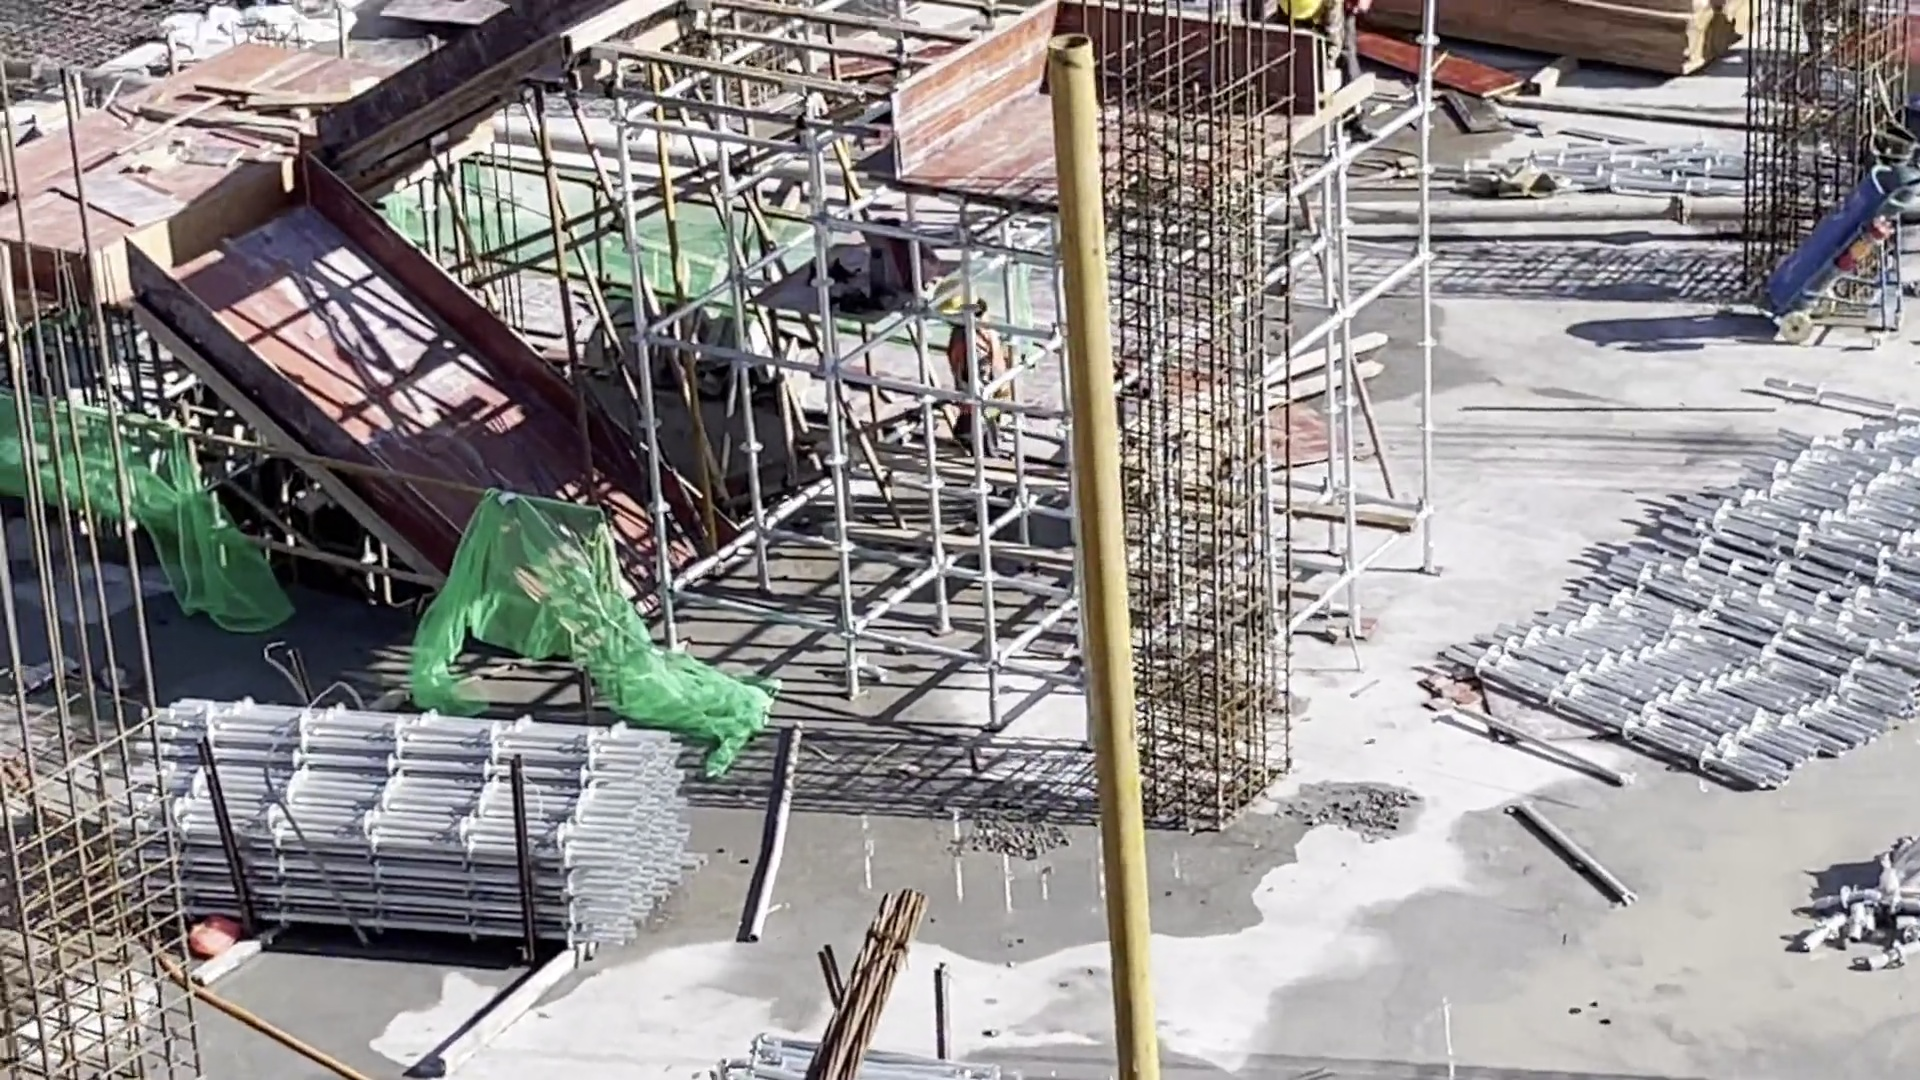helmet: (943, 291, 983, 317), (1288, 2, 1317, 20)
person: (1275, 4, 1380, 145), (933, 294, 1008, 456)
scaffold: (1446, 419, 1920, 789), (117, 690, 707, 957)
